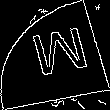M_S: (21, 25, 89, 85)
